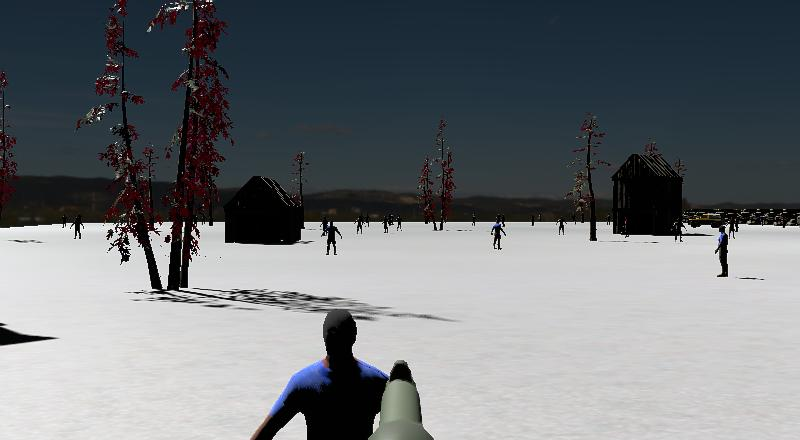House: (602, 141, 695, 247), (214, 166, 313, 261)
Human: (220, 291, 408, 440), (223, 289, 394, 440), (708, 218, 738, 284), (318, 213, 347, 260), (486, 210, 513, 255), (68, 208, 91, 243), (350, 208, 373, 238), (67, 212, 88, 242), (377, 206, 396, 236), (552, 212, 571, 240), (392, 209, 409, 234)
